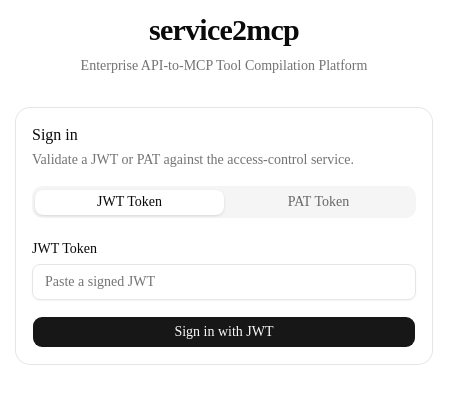
Test: LoginPage › shows error on network failure
Type "jwt-token-123" into the password field labelled "JWT Token" at x=224, y=282, box x1=32 y1=264 x2=416 y2=300
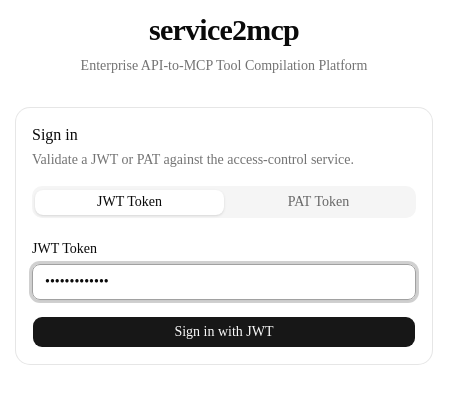
Click the button "Sign in with JWT" at x=224, y=332, box x1=32 y1=316 x2=416 y2=348
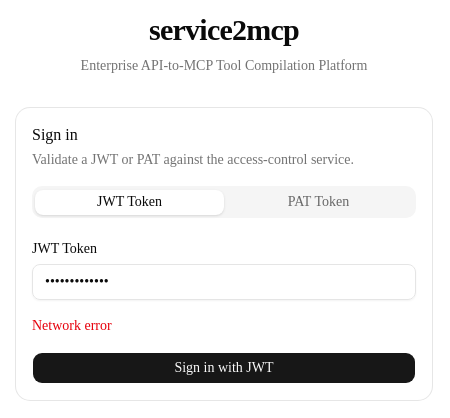
Now the text "Network error" is shown, box x1=32 y1=318 x2=112 y2=333
